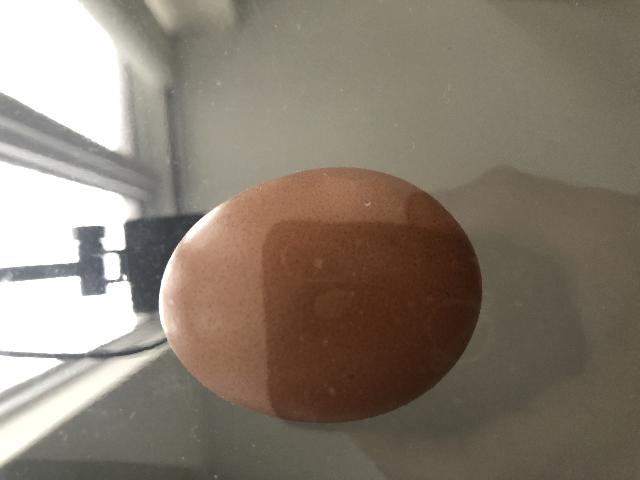Sano: (157, 164, 484, 424)
